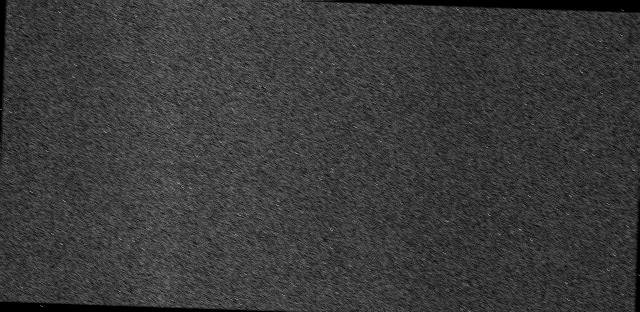water_spot: (611, 10, 640, 57)
